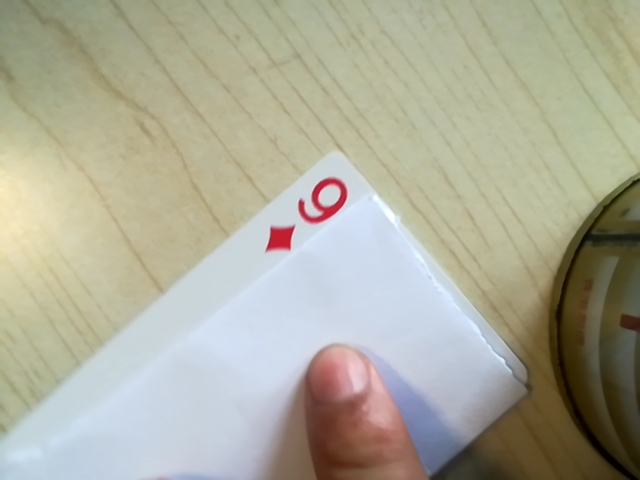fk 9: (260, 174, 362, 257)
